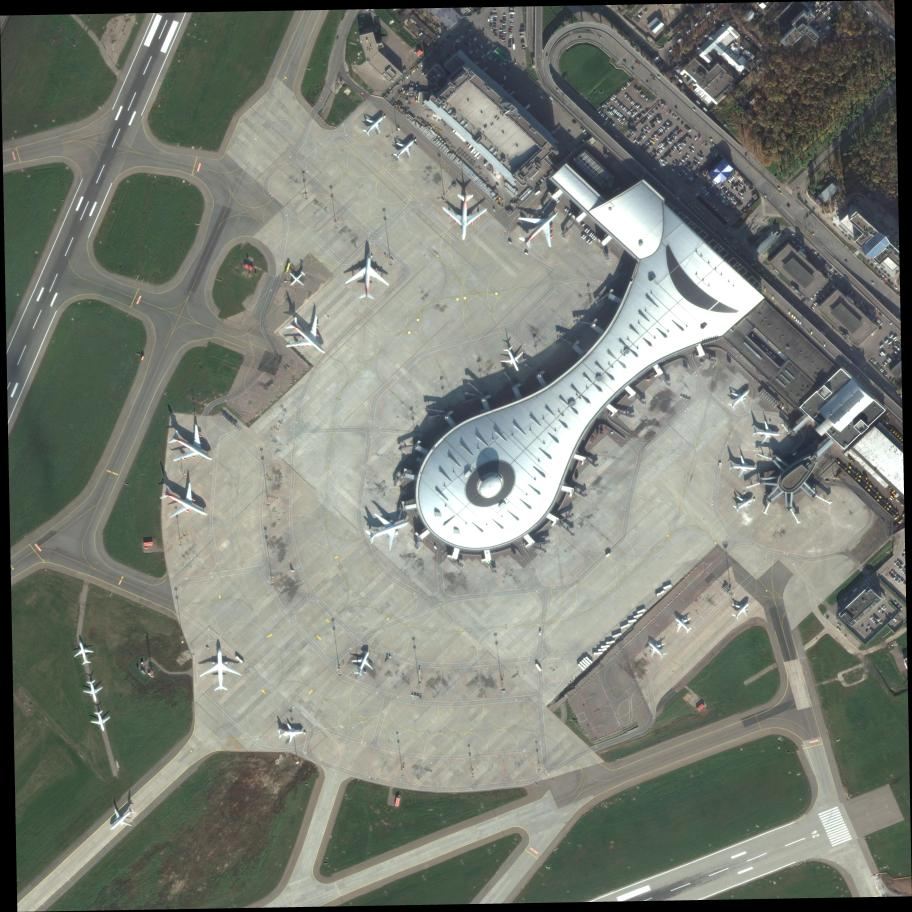large-vehicle: (589, 232, 595, 238), (593, 235, 598, 241), (586, 228, 591, 234), (583, 227, 589, 232), (588, 240, 594, 245), (585, 238, 591, 243), (581, 233, 586, 239), (889, 334, 894, 339), (888, 340, 893, 345), (879, 343, 884, 348), (884, 339, 889, 344), (591, 234, 596, 239), (588, 231, 593, 236), (583, 235, 588, 240), (892, 336, 897, 340)
plane: (507, 194, 573, 260), (274, 304, 340, 370), (151, 472, 217, 534), (160, 417, 223, 480), (361, 502, 417, 556), (440, 191, 489, 242), (345, 250, 392, 301), (200, 647, 241, 691), (102, 800, 141, 838), (723, 381, 757, 415), (347, 645, 380, 680), (496, 343, 530, 376), (358, 108, 391, 141), (389, 132, 421, 164), (726, 594, 758, 626), (729, 489, 760, 519), (641, 634, 672, 664), (728, 454, 760, 481), (669, 610, 697, 638), (751, 420, 782, 445), (283, 265, 310, 292), (70, 638, 96, 666), (277, 721, 306, 745), (80, 678, 105, 704), (88, 710, 112, 732)
small-vehicle: (650, 75, 656, 81), (887, 356, 892, 362), (853, 587, 858, 593), (843, 596, 848, 602), (737, 200, 743, 205), (738, 202, 744, 207), (618, 102, 623, 107), (659, 127, 664, 132), (883, 371, 888, 376), (568, 211, 573, 216), (556, 199, 561, 204), (524, 251, 529, 256), (667, 140, 672, 145), (736, 199, 741, 204), (732, 195, 737, 200), (642, 110, 646, 115), (611, 107, 616, 111), (634, 117, 639, 121), (621, 105, 625, 110), (684, 124, 688, 129), (652, 118, 656, 123), (678, 151, 683, 155), (678, 146, 683, 150), (483, 37, 488, 41), (486, 39, 490, 44), (792, 452, 797, 456), (759, 43, 763, 48), (582, 222, 586, 227), (880, 267, 884, 272), (508, 240, 512, 245), (734, 197, 739, 201), (709, 137, 713, 142), (664, 137, 668, 142), (663, 139, 667, 144), (665, 151, 670, 155), (664, 143, 668, 148), (733, 184, 738, 188), (735, 182, 739, 187), (822, 295, 827, 299), (740, 190, 745, 194), (676, 196, 681, 200), (519, 35, 525, 38), (894, 286, 898, 290), (630, 112, 634, 116), (633, 103, 637, 107), (638, 105, 642, 109), (639, 107, 643, 111), (638, 114, 642, 118), (633, 119, 637, 123), (640, 121, 644, 125), (608, 109, 612, 113), (617, 117, 621, 121), (621, 116, 625, 120), (620, 119, 624, 123), (630, 107, 634, 111), (613, 114, 617, 118), (604, 102, 608, 106), (629, 79, 633, 83), (641, 93, 645, 97), (611, 121, 615, 125), (609, 120, 613, 124), (608, 119, 612, 123), (628, 111, 632, 115), (627, 110, 631, 114), (624, 108, 628, 112), (620, 104, 624, 108), (615, 99, 619, 103), (645, 97, 649, 101), (628, 97, 632, 101), (627, 96, 631, 100), (634, 111, 638, 115), (617, 101, 621, 105), (599, 111, 603, 115), (621, 121, 625, 125), (618, 118, 622, 122), (610, 111, 614, 115), (620, 114, 624, 118), (618, 113, 622, 117), (614, 109, 618, 113), (616, 100, 620, 104), (615, 134, 619, 138), (642, 119, 646, 123), (662, 125, 666, 129), (663, 124, 667, 128), (667, 120, 671, 124), (688, 128, 692, 132), (687, 127, 691, 131), (668, 110, 672, 114), (655, 121, 659, 125), (652, 123, 656, 127), (667, 125, 671, 129), (663, 129, 667, 133), (659, 158, 663, 162), (671, 168, 675, 172), (654, 153, 658, 157), (643, 144, 647, 148), (651, 135, 655, 139), (660, 132, 664, 136), (657, 135, 661, 139), (655, 132, 659, 136), (656, 131, 660, 135), (657, 130, 661, 134), (662, 130, 666, 134), (650, 120, 654, 124), (655, 137, 659, 141), (633, 139, 637, 143), (636, 140, 640, 144), (642, 134, 646, 138), (641, 135, 645, 139), (655, 116, 659, 120), (648, 113, 652, 117), (646, 115, 650, 119), (646, 141, 650, 145), (648, 128, 652, 132), (641, 129, 645, 133), (639, 136, 643, 140), (638, 137, 642, 141), (661, 146, 665, 150), (659, 148, 663, 152), (482, 53, 486, 57), (499, 62, 503, 66), (474, 61, 478, 65), (485, 38, 489, 42), (490, 43, 494, 47), (397, 127, 401, 131), (390, 89, 394, 93), (385, 96, 389, 100), (613, 94, 617, 98), (557, 124, 561, 128), (539, 95, 543, 99), (554, 128, 558, 132), (552, 129, 556, 133), (551, 130, 555, 134), (601, 105, 605, 109), (605, 117, 609, 121), (692, 108, 696, 112), (657, 75, 661, 79), (582, 129, 586, 133), (661, 155, 665, 159), (663, 154, 667, 158), (658, 47, 662, 51), (644, 8, 648, 12), (849, 347, 853, 351), (856, 374, 860, 378), (882, 370, 886, 374), (767, 53, 771, 57), (740, 46, 744, 50), (748, 40, 752, 44), (734, 41, 738, 45), (687, 32, 691, 36), (878, 366, 882, 370), (871, 281, 875, 285), (875, 362, 879, 366), (897, 342, 901, 346), (894, 338, 898, 342), (882, 362, 886, 366), (870, 358, 874, 362), (867, 624, 871, 628), (871, 628, 875, 632), (664, 153, 668, 157), (566, 208, 570, 212), (564, 207, 568, 211), (870, 616, 874, 620), (555, 198, 559, 202), (477, 42, 481, 46), (889, 497, 893, 501), (901, 563, 905, 567), (899, 561, 903, 565), (898, 560, 902, 564), (883, 277, 887, 281), (873, 261, 877, 265), (540, 178, 544, 182), (542, 176, 546, 180), (901, 568, 905, 572), (889, 615, 893, 619), (893, 601, 897, 605), (883, 607, 887, 611), (881, 605, 885, 609), (877, 618, 881, 622), (874, 620, 878, 624), (871, 618, 875, 622), (899, 567, 903, 571), (895, 579, 899, 583), (894, 577, 898, 581), (891, 574, 895, 578), (894, 573, 898, 577), (896, 574, 900, 578), (646, 145, 650, 149), (645, 146, 649, 150), (644, 148, 648, 152), (669, 139, 673, 143), (674, 134, 678, 138), (679, 130, 683, 134), (673, 129, 677, 133), (670, 133, 674, 137), (668, 134, 672, 138), (667, 135, 671, 139), (648, 144, 652, 148), (651, 140, 655, 144), (714, 153, 718, 157), (711, 143, 715, 147), (735, 198, 739, 202), (731, 195, 735, 199), (666, 142, 670, 146), (691, 149, 695, 153), (683, 140, 687, 144), (678, 140, 682, 144), (680, 138, 684, 142), (681, 137, 685, 141), (683, 135, 687, 139), (684, 134, 688, 138), (682, 142, 686, 146), (677, 142, 681, 146), (667, 150, 671, 154), (686, 154, 690, 158), (663, 145, 667, 149), (664, 160, 668, 164), (699, 156, 703, 160), (696, 160, 700, 164), (684, 166, 688, 170), (681, 169, 685, 173), (672, 162, 676, 166), (676, 163, 680, 167), (679, 161, 683, 165), (681, 159, 685, 163), (682, 158, 686, 162), (809, 296, 813, 300), (814, 301, 818, 305), (813, 302, 817, 306), (812, 304, 816, 308), (811, 306, 815, 310), (768, 278, 772, 282), (815, 290, 819, 294), (802, 243, 806, 247), (811, 232, 815, 236), (829, 277, 833, 281), (831, 285, 835, 289), (827, 290, 831, 294), (757, 269, 761, 273), (736, 181, 740, 185), (749, 186, 753, 190), (763, 194, 767, 198), (737, 180, 741, 184), (748, 185, 752, 189), (732, 205, 736, 209), (752, 257, 756, 261), (738, 251, 742, 255), (733, 246, 737, 250), (726, 240, 730, 244), (723, 237, 727, 241), (626, 94, 629, 99), (651, 124, 654, 129), (654, 117, 657, 122), (891, 282, 894, 287), (411, 82, 414, 87), (416, 65, 419, 70), (861, 624, 864, 629), (834, 272, 839, 275), (884, 360, 889, 363), (887, 273, 890, 278), (878, 270, 881, 275), (875, 267, 878, 272), (871, 263, 874, 268), (820, 258, 825, 261), (813, 251, 818, 254), (701, 154, 704, 159), (787, 203, 790, 208), (741, 189, 746, 192), (645, 108, 648, 112), (637, 115, 640, 119), (626, 109, 629, 113), (612, 112, 615, 116), (634, 86, 638, 89), (627, 136, 630, 140), (615, 93, 618, 97), (619, 89, 623, 92), (631, 78, 634, 82), (628, 81, 632, 84), (644, 95, 647, 99), (640, 91, 643, 95), (637, 90, 641, 93), (636, 89, 640, 92), (636, 116, 639, 120), (633, 110, 636, 114), (623, 106, 626, 110), (641, 112, 644, 116), (635, 104, 638, 108), (637, 105, 640, 109), (643, 94, 646, 98), (630, 99, 633, 103), (631, 100, 634, 104), (624, 93, 627, 97), (607, 118, 610, 122), (629, 123, 633, 126), (625, 120, 628, 124), (623, 117, 626, 121), (617, 112, 620, 116), (615, 111, 619, 114), (613, 108, 616, 112), (686, 126, 690, 129), (668, 124, 672, 127), (670, 123, 673, 127), (664, 123, 668, 126), (644, 118, 647, 122), (677, 118, 680, 122), (674, 115, 677, 119), (657, 119, 661, 122), (665, 128, 668, 132), (653, 167, 657, 170), (662, 162, 665, 166), (658, 160, 662, 163), (657, 151, 661, 154), (658, 134, 662, 137), (653, 134, 657, 137), (666, 122, 670, 125), (656, 120, 660, 123), (658, 150, 662, 153), (649, 121, 652, 125), (656, 152, 659, 156), (647, 129, 650, 133), (645, 131, 648, 135), (637, 139, 641, 142), (673, 136, 676, 140), (662, 141, 665, 145), (660, 143, 664, 146), (659, 144, 663, 147), (621, 87, 624, 91), (489, 55, 492, 59), (487, 57, 491, 60), (480, 56, 484, 59), (475, 49, 478, 53), (476, 48, 479, 52), (473, 38, 476, 42), (457, 39, 461, 42), (456, 40, 460, 43), (469, 37, 472, 41), (462, 44, 465, 48), (489, 49, 493, 52), (489, 42, 492, 46), (450, 32, 454, 35), (422, 71, 425, 75), (425, 68, 428, 72), (397, 83, 400, 87), (556, 126, 560, 129), (556, 88, 559, 92), (508, 59, 511, 63), (503, 62, 506, 66), (555, 127, 559, 130), (611, 96, 615, 99), (606, 101, 609, 105), (603, 103, 606, 107), (612, 123, 616, 126), (600, 113, 604, 116), (598, 110, 601, 114), (582, 139, 585, 143), (509, 12, 515, 14), (519, 32, 525, 34), (522, 46, 526, 49), (660, 157, 664, 160), (825, 480, 829, 483), (669, 56, 672, 60), (643, 10, 647, 13), (764, 492, 768, 495), (713, 20, 716, 24), (865, 629, 868, 633), (837, 627, 840, 631), (837, 623, 840, 627), (755, 67, 759, 70), (757, 65, 760, 69), (756, 59, 760, 62), (746, 38, 750, 41), (744, 35, 747, 39), (881, 369, 884, 373), (879, 368, 883, 371), (810, 331, 813, 335), (878, 320, 882, 323), (877, 319, 880, 323), (875, 318, 879, 321), (870, 311, 873, 315), (839, 276, 843, 279), (831, 269, 835, 272), (830, 268, 834, 271), (829, 266, 833, 269), (826, 264, 830, 267), (822, 259, 826, 262), (880, 321, 883, 325), (877, 365, 881, 368), (873, 361, 877, 364), (872, 359, 875, 363), (894, 345, 898, 348), (895, 344, 899, 347), (878, 354, 882, 357), (476, 44, 480, 47), (888, 279, 891, 283), (884, 270, 887, 274), (877, 265, 881, 268), (867, 259, 870, 263), (531, 177, 534, 181), (902, 570, 906, 573), (899, 607, 903, 610), (875, 615, 878, 619), (880, 621, 883, 625), (873, 619, 876, 623), (897, 581, 901, 584), (901, 578, 904, 582), (900, 577, 903, 581), (899, 566, 903, 569), (898, 565, 901, 569), (897, 564, 900, 568), (896, 562, 899, 566), (894, 561, 897, 565), (893, 576, 896, 580), (890, 573, 893, 577), (891, 570, 895, 573), (893, 571, 896, 575), (898, 575, 901, 579), (899, 576, 902, 580), (818, 257, 822, 260), (817, 255, 821, 258), (676, 132, 680, 135), (670, 138, 674, 141), (675, 128, 678, 132), (730, 194, 734, 197), (749, 202, 752, 206), (747, 204, 751, 207), (724, 216, 727, 220), (726, 218, 729, 222), (715, 208, 719, 211), (695, 172, 698, 176), (689, 178, 693, 181), (690, 177, 694, 180), (679, 139, 682, 143), (694, 136, 697, 140), (676, 143, 679, 147), (675, 144, 678, 148), (674, 145, 677, 149), (672, 146, 675, 150), (671, 147, 674, 151), (691, 145, 695, 148), (690, 150, 693, 154), (669, 155, 672, 159), (687, 168, 690, 172), (684, 172, 688, 175), (678, 162, 681, 166), (683, 157, 687, 160), (793, 315, 796, 319), (791, 314, 794, 318), (765, 275, 768, 279), (810, 295, 814, 298), (820, 297, 823, 301), (802, 248, 805, 252), (792, 241, 796, 244), (796, 237, 799, 241), (860, 300, 863, 304), (761, 267, 764, 271), (747, 184, 750, 188), (746, 182, 749, 186), (745, 181, 748, 185), (743, 180, 747, 183), (742, 178, 745, 182), (741, 177, 744, 181), (740, 176, 743, 180), (738, 175, 741, 179), (737, 174, 740, 178), (779, 191, 782, 195), (777, 186, 780, 190), (754, 262, 758, 265), (713, 227, 716, 231), (708, 222, 711, 226), (696, 212, 700, 215), (702, 212, 705, 216), (697, 208, 701, 211), (694, 205, 698, 208), (691, 206, 694, 210), (469, 51, 474, 53), (410, 71, 412, 76), (407, 74, 409, 79), (504, 75, 506, 80), (519, 27, 524, 29), (501, 40, 506, 42), (508, 30, 513, 32), (509, 20, 514, 22), (509, 18, 514, 20), (508, 35, 513, 37), (814, 253, 819, 255), (799, 320, 801, 325), (797, 318, 799, 323), (624, 119, 627, 122), (632, 102, 635, 105), (629, 134, 632, 137), (616, 116, 619, 119), (632, 114, 635, 117), (609, 111, 612, 114), (631, 122, 634, 125), (610, 106, 613, 109), (623, 86, 626, 89), (672, 114, 675, 117), (666, 127, 669, 130), (642, 146, 645, 149), (645, 143, 648, 146), (649, 139, 652, 142), (643, 128, 646, 131), (646, 126, 649, 129), (659, 129, 662, 132), (667, 137, 670, 140), (658, 145, 661, 148), (627, 82, 630, 85), (480, 45, 483, 48), (494, 58, 497, 61), (488, 41, 491, 44), (492, 45, 495, 48), (610, 98, 613, 101), (607, 100, 610, 103), (602, 114, 605, 117), (556, 142, 559, 145), (668, 40, 671, 43), (870, 628, 873, 631), (891, 355, 894, 358), (678, 41, 681, 44), (700, 21, 703, 24), (750, 41, 753, 44), (745, 37, 748, 40), (828, 265, 831, 268), (825, 263, 828, 266), (884, 362, 887, 365), (880, 353, 883, 356), (881, 274, 884, 277), (897, 559, 900, 562), (902, 580, 905, 583), (826, 616, 829, 619), (878, 609, 881, 612), (876, 617, 879, 620), (876, 622, 879, 625), (889, 572, 892, 575), (678, 131, 681, 134), (672, 137, 675, 140), (673, 131, 676, 134), (672, 132, 675, 135), (740, 211, 743, 214), (813, 293, 816, 296), (774, 277, 777, 280), (762, 274, 765, 277), (795, 245, 798, 248), (799, 240, 802, 243), (793, 235, 796, 238), (791, 233, 794, 236), (744, 207, 747, 210), (710, 225, 713, 228), (702, 218, 705, 221), (699, 215, 702, 218), (694, 210, 697, 213), (687, 203, 690, 206), (646, 117, 648, 121), (444, 38, 448, 40), (455, 42, 459, 44), (489, 25, 493, 27), (421, 63, 423, 67), (460, 36, 464, 38), (413, 68, 415, 72), (408, 73, 410, 77), (546, 53, 548, 57), (577, 37, 581, 39), (521, 42, 525, 44), (508, 41, 512, 43), (508, 43, 512, 45), (508, 45, 512, 47), (508, 47, 512, 49), (502, 36, 506, 38), (502, 33, 506, 35), (490, 20, 494, 22), (493, 10, 497, 12), (493, 32, 497, 34), (493, 27, 497, 29), (509, 33, 513, 35), (499, 31, 503, 33), (503, 18, 507, 20), (488, 18, 490, 22), (503, 32, 507, 34), (509, 36, 513, 38), (682, 57, 686, 59), (658, 58, 660, 62), (662, 45, 664, 49), (782, 405, 784, 409), (694, 26, 696, 30), (869, 309, 871, 313), (836, 274, 840, 276), (788, 311, 790, 315), (772, 296, 774, 300), (751, 264, 755, 266), (811, 250, 815, 252), (851, 291, 853, 295), (469, 52, 472, 54), (475, 37, 477, 40), (469, 42, 471, 45), (494, 12, 497, 14), (490, 27, 493, 29), (494, 25, 497, 27), (499, 36, 502, 38), (502, 38, 505, 40), (490, 17, 493, 19), (490, 15, 493, 17), (494, 15, 497, 17), (494, 33, 497, 35), (502, 26, 505, 28), (503, 23, 506, 25), (799, 246, 802, 248), (502, 15, 507, 16), (796, 316, 797, 321), (490, 29, 494, 30), (489, 24, 493, 25), (468, 30, 472, 31), (412, 70, 413, 74), (415, 67, 416, 71), (404, 78, 405, 82), (493, 23, 497, 24), (502, 42, 506, 43), (493, 31, 497, 32), (502, 28, 506, 29), (502, 22, 506, 23), (502, 20, 506, 21), (503, 17, 507, 18), (502, 30, 506, 31), (498, 30, 502, 31), (765, 288, 766, 292), (490, 22, 493, 23), (494, 20, 497, 21), (494, 19, 497, 20), (494, 17, 497, 18), (490, 14, 493, 15), (494, 14, 497, 15), (510, 23, 513, 24), (490, 19, 493, 20), (494, 35, 497, 36), (494, 29, 497, 30), (510, 25, 513, 26), (503, 25, 506, 26), (824, 344, 825, 347), (500, 33, 502, 34)
